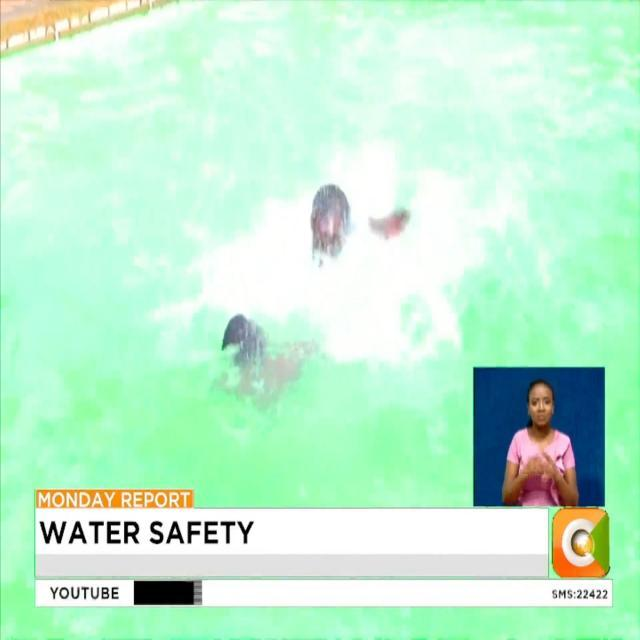drowning: (191, 131, 426, 395)
